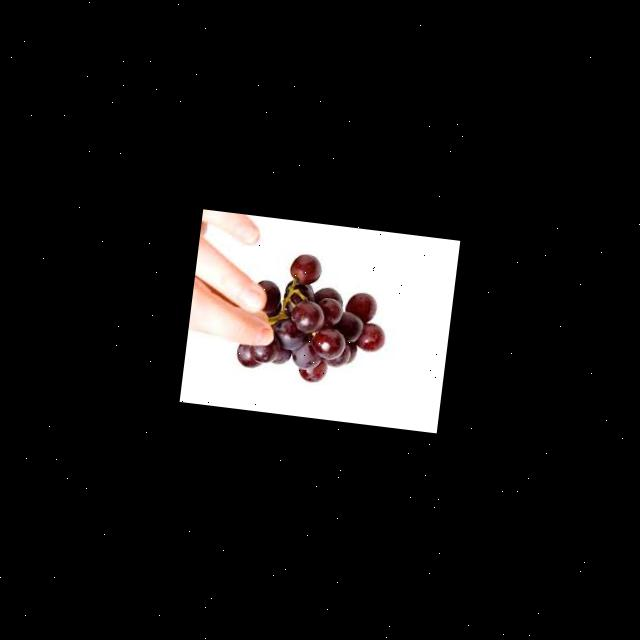grape: (234, 244, 394, 388)
